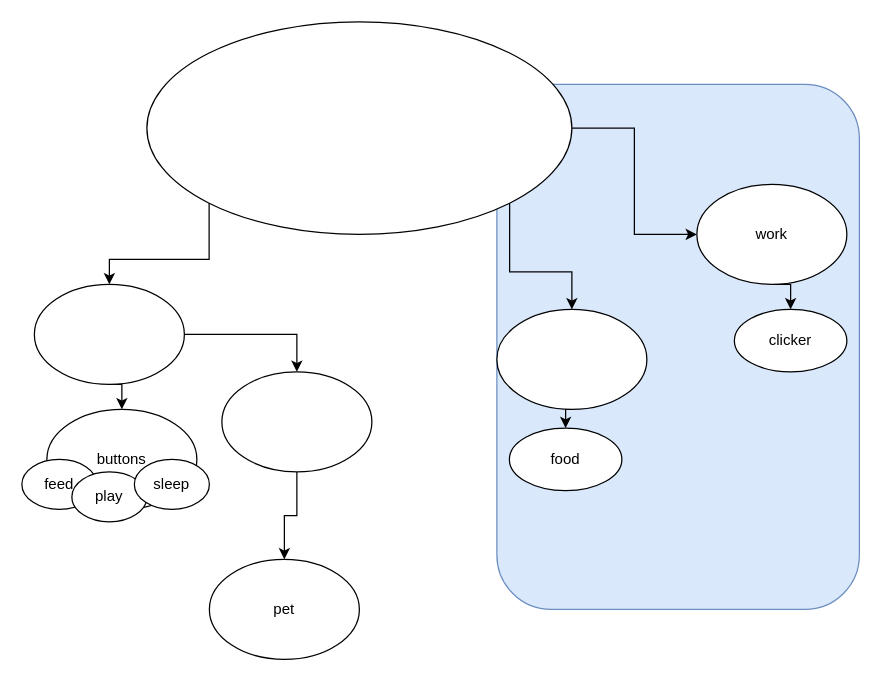
Some shapes in this 881 by 681 pixel diagram are drawn without their labels. Here are the shapes that lost their labels. From the top down, the centre of each, then its label:
(359,127): app
(108,333): egg
(571,358): store
(296,421): screen
